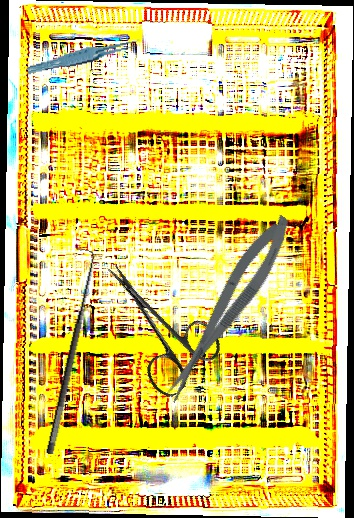Hook Surgical: (30, 247, 103, 456)
Iris Scissors: (78, 241, 230, 403)
Micro Scissor: (151, 208, 302, 408)
Tissue Forceps: (25, 38, 143, 75)
